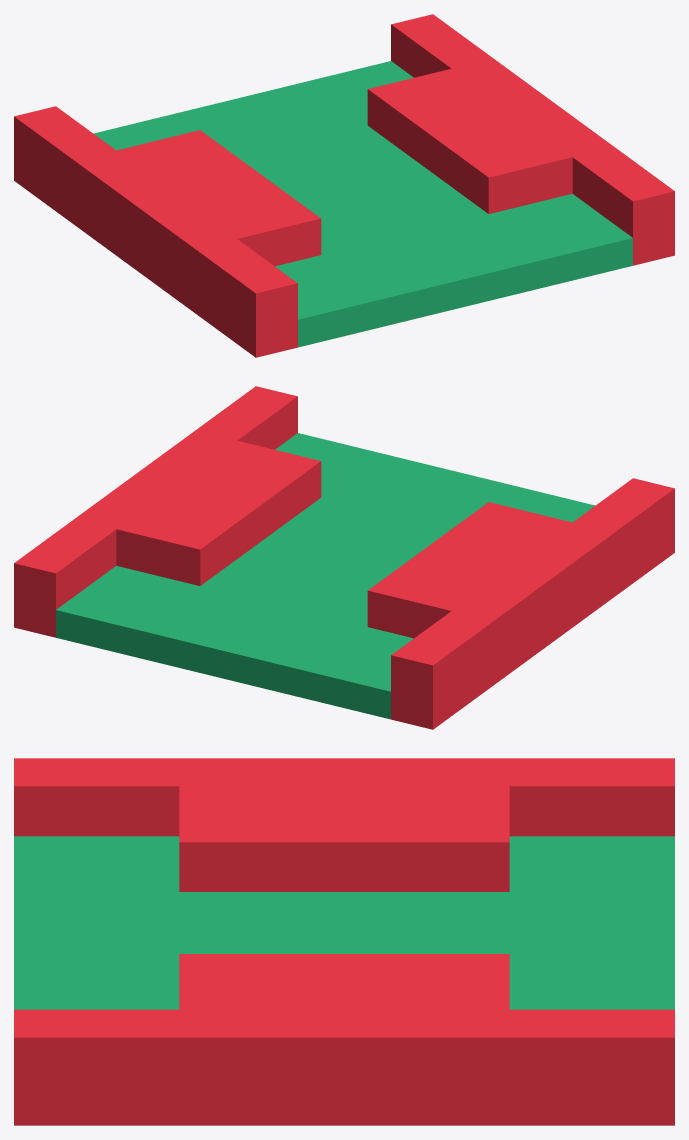
Rendered from narrowBlock.fbx.
3 renders of one model, top to bottom at view 1: azimuth 30°, elevation 25°; view 2: azimuth 150°, elevation 25°; view 3: azimuth 270°, elevation 25°, orthographic. The views are drawn at different scales.
Parts seen in each view (by area): view 1: narrowBlock; view 2: narrowBlock; view 3: narrowBlock.
Part boxes in pixels (box(x1,y1,x2,y2)): narrowBlock: box(14, 14, 674, 357); narrowBlock: box(14, 386, 674, 729); narrowBlock: box(14, 758, 674, 1125).
Bounding box in the file's own units: 10 × 1.47 × 10.
